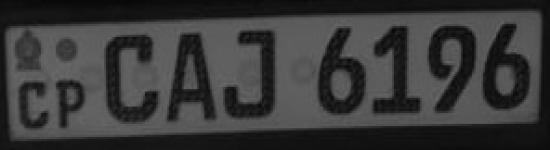1: (372, 18, 426, 123)
6: (308, 20, 371, 123), (480, 16, 536, 116)
9: (424, 15, 480, 122)
A: (164, 27, 220, 128)
C: (100, 28, 163, 130), (14, 75, 52, 133)
J: (222, 21, 286, 128)
P: (51, 73, 90, 135)
